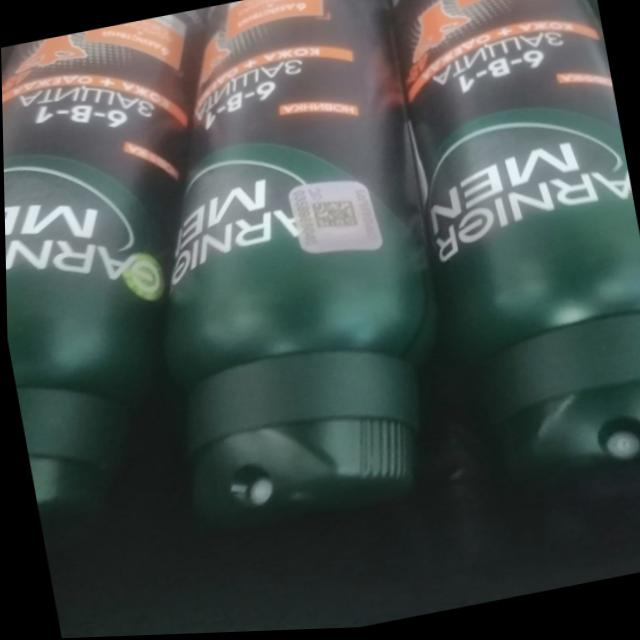datamatrix: (308, 197, 360, 239)
